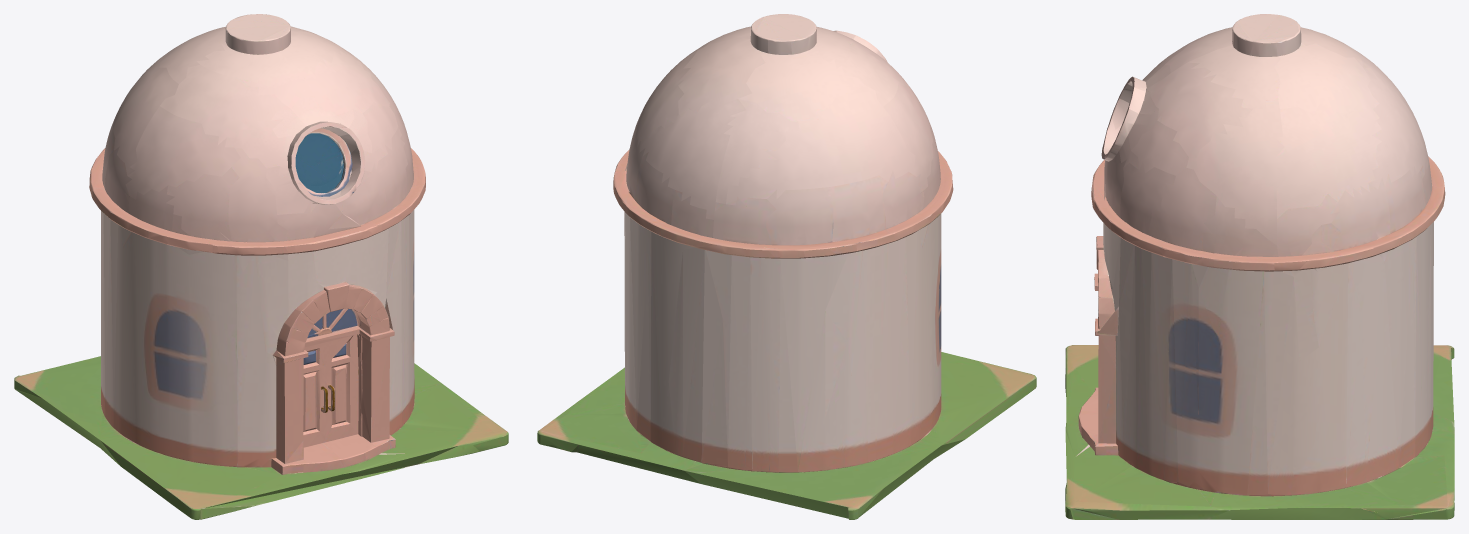
The model's file is building-dome.glb.
3 views of the same model, side by side, from view 1: azimuth 30°, elevation 25°; view 2: azimuth 150°, elevation 25°; view 3: azimuth 270°, elevation 25° (orthographic). The views are drawn at different scales.
Bounding box in the file's own units: 1.63 × 1.9 × 1.63.
Materials: 1 (1 with a texture image).
